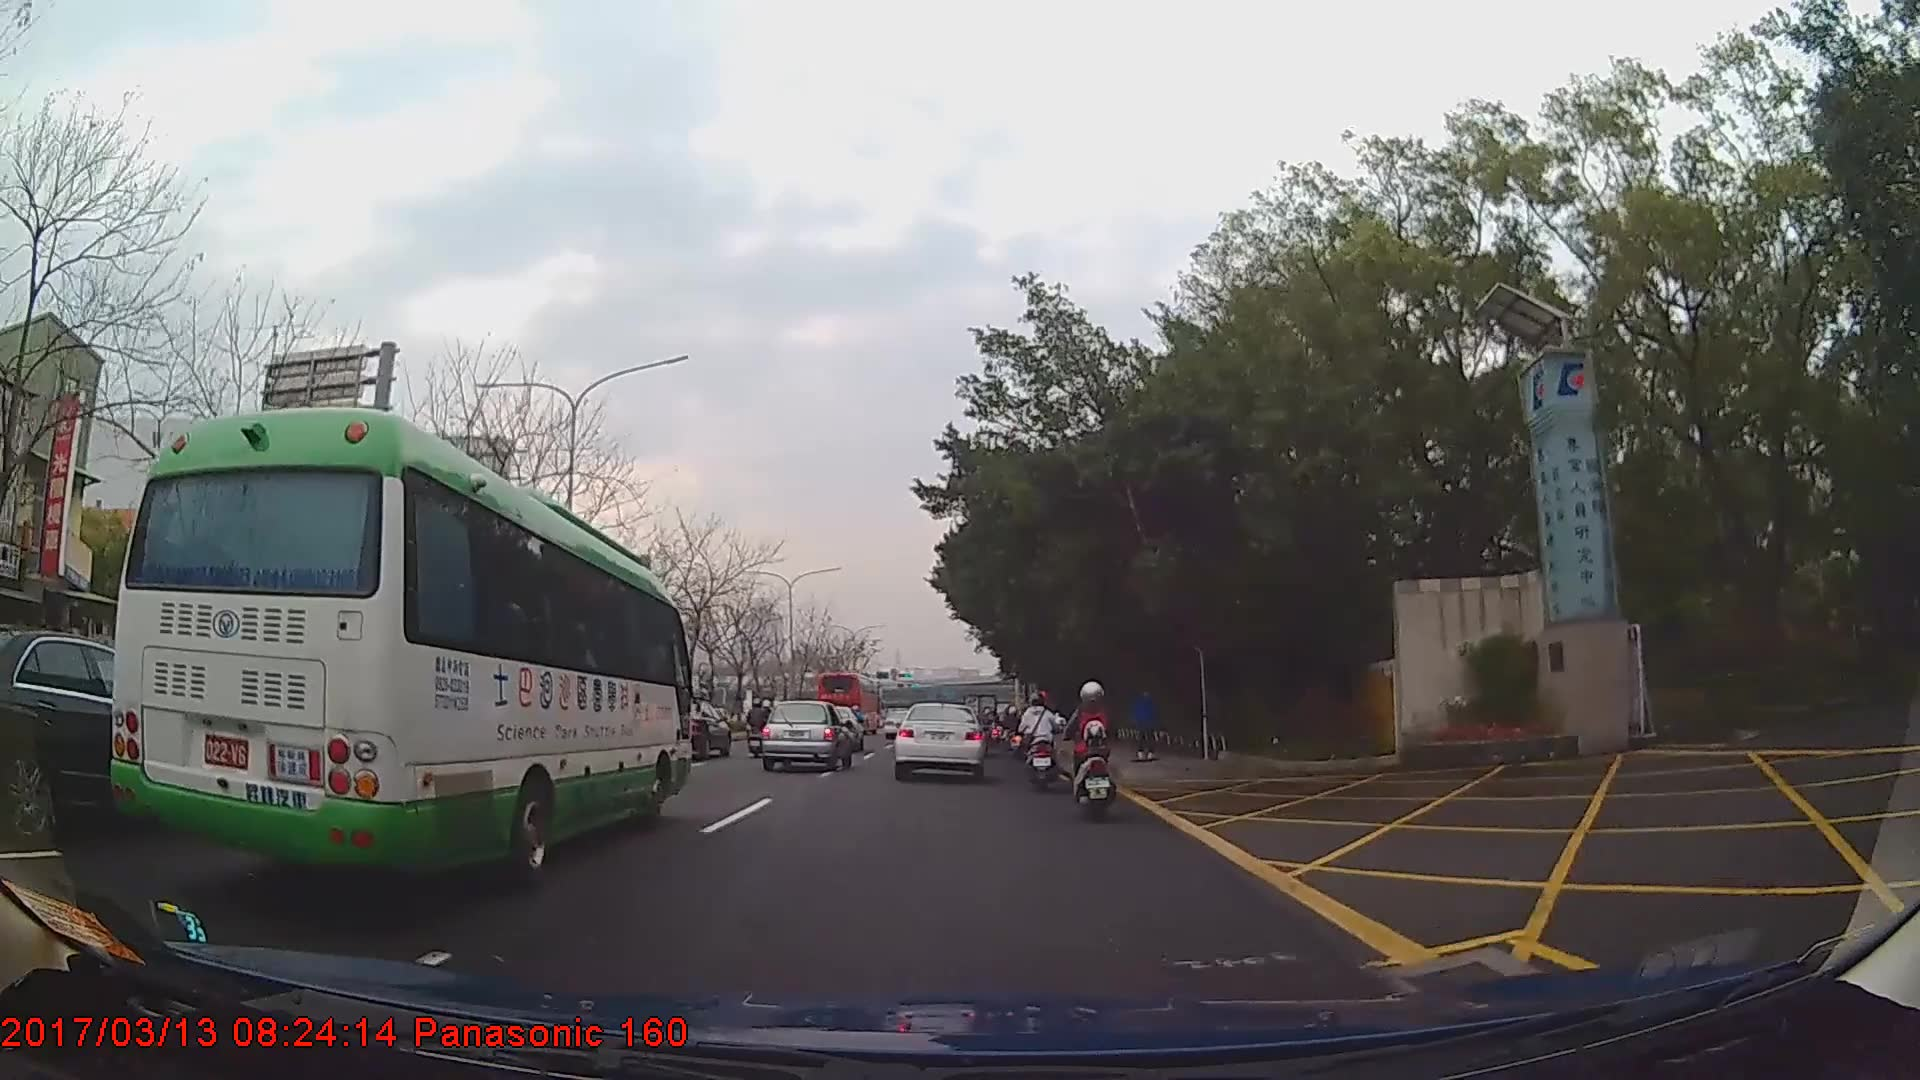pedestrian: (1131, 689, 1159, 761)
rider: (1070, 680, 1119, 820), (1018, 694, 1061, 795), (748, 698, 771, 748)
vehicle: (110, 400, 690, 885), (891, 700, 986, 781), (760, 698, 853, 772), (814, 669, 881, 736)
